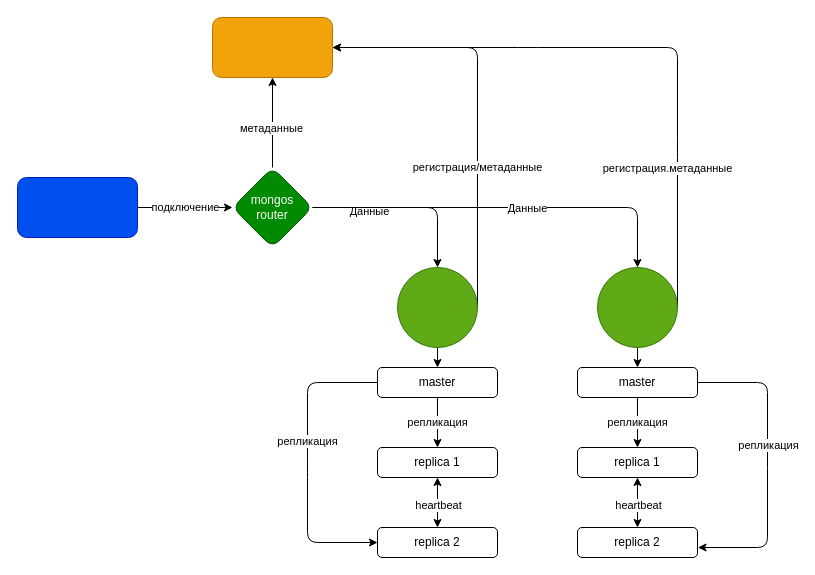
Image size: 815x575. Some labels were removed from this diagram. Here are the shapes that lost their labels. From the top down, the centre of each, then its label:
At pixel 272 47: "configSrv".
At pixel 77 207: "pymongo-app".
At pixel 437 307: "shard1".
At pixel 637 307: "shard2".
